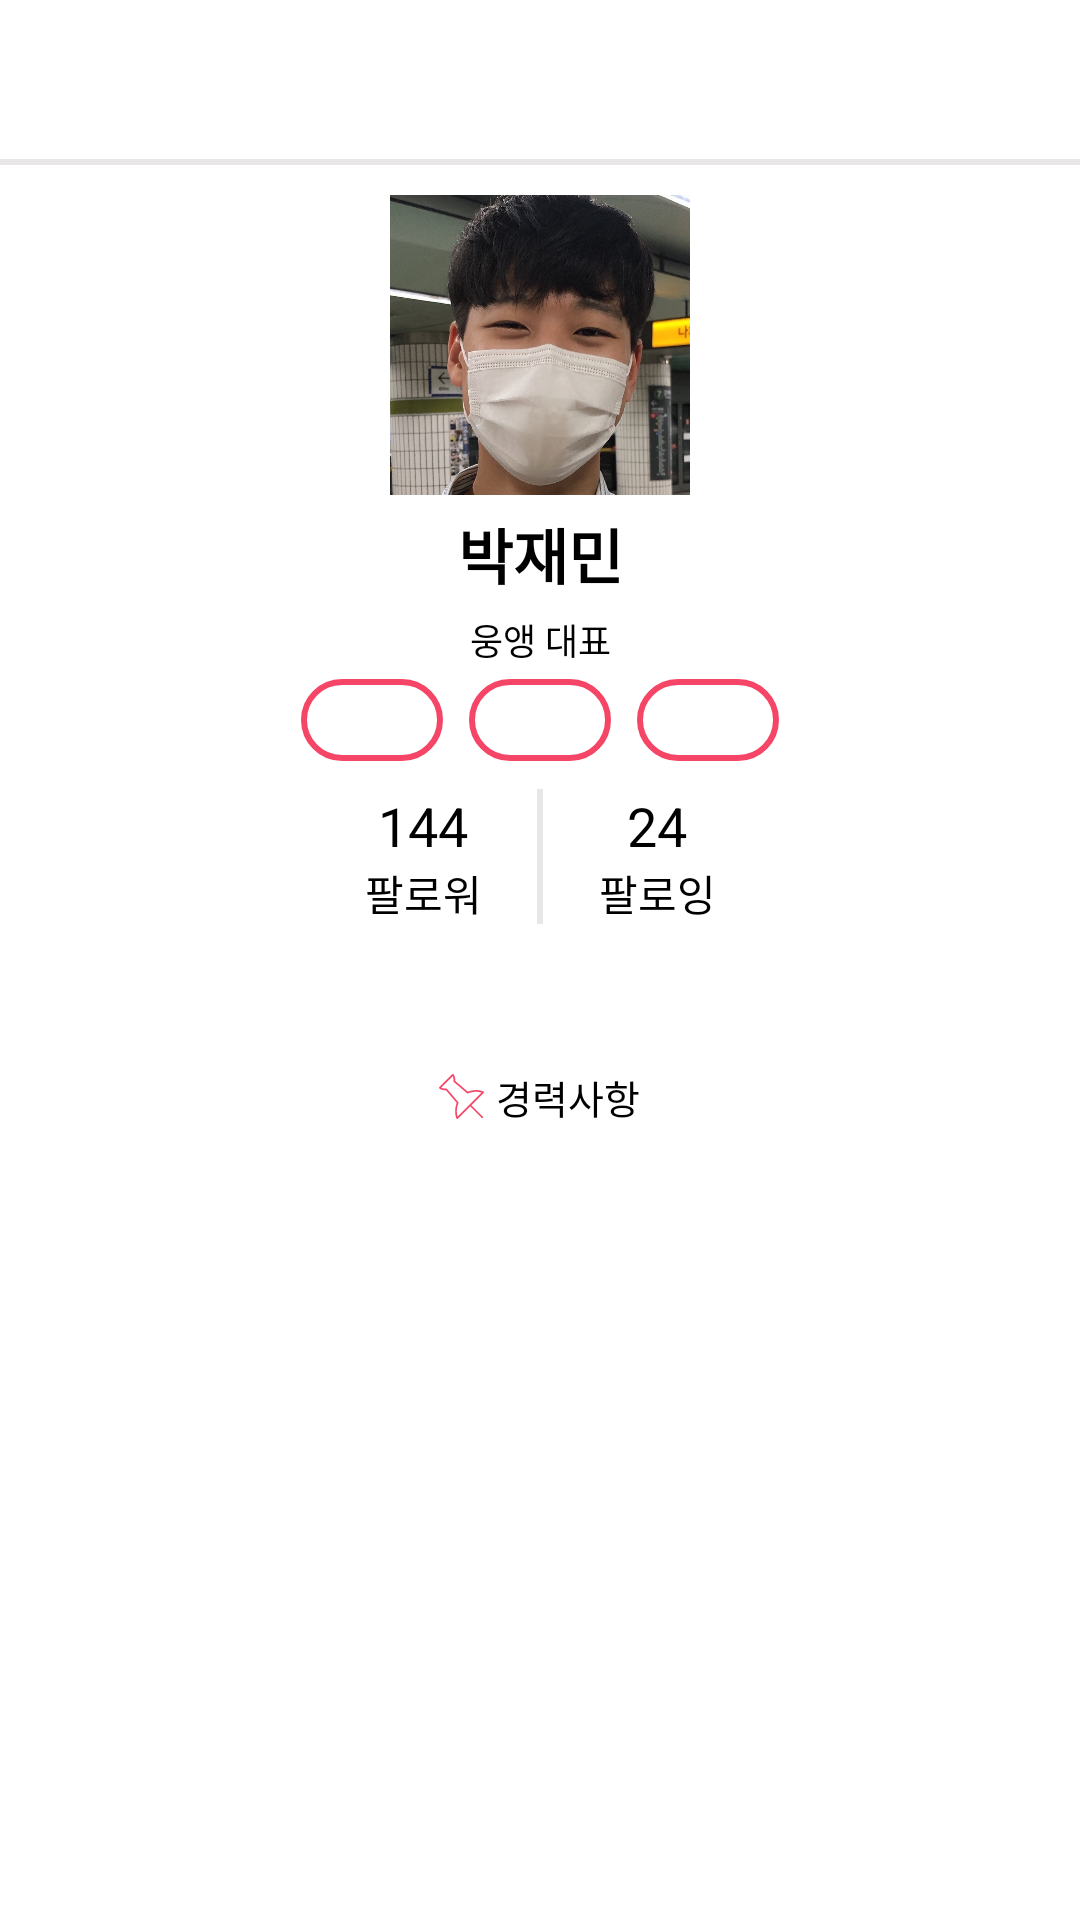

Screen size 1080*1920. Icon name, then its center in pixels as [x,y]:
pushpin: [461,1096]
